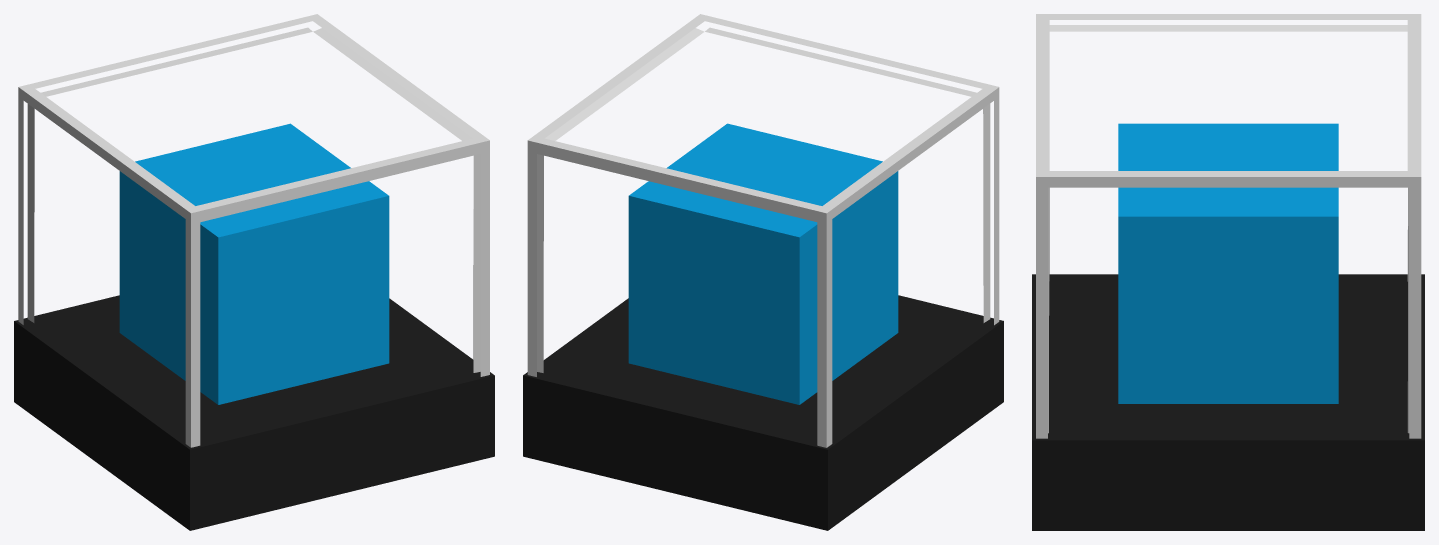
File: beacon.glb
3 views of the same model, side by side, from view 1: azimuth 30°, elevation 25°; view 2: azimuth 150°, elevation 25°; view 3: azimuth 270°, elevation 25° (orthographic). The views are drawn at different scales.
Parts seen in each view (by area): view 1: Cube.002, Cube.001, Cube.003; view 2: Cube.002, Cube.001, Cube.003; view 3: Cube.002, Cube.001, Cube.003.
Part boxes in pixels (<box>): Cube.002: <box>14,295,494,530</box>; Cube.001: <box>119,123,389,404</box>; Cube.003: <box>18,14,489,447</box>; Cube.002: <box>523,295,1003,530</box>; Cube.001: <box>628,123,898,404</box>; Cube.003: <box>527,14,999,447</box>; Cube.002: <box>1032,274,1424,530</box>; Cube.001: <box>1118,123,1338,403</box>; Cube.003: <box>1036,14,1421,438</box>.
Size of the model in its own units: 4 by 3.96 by 4.
